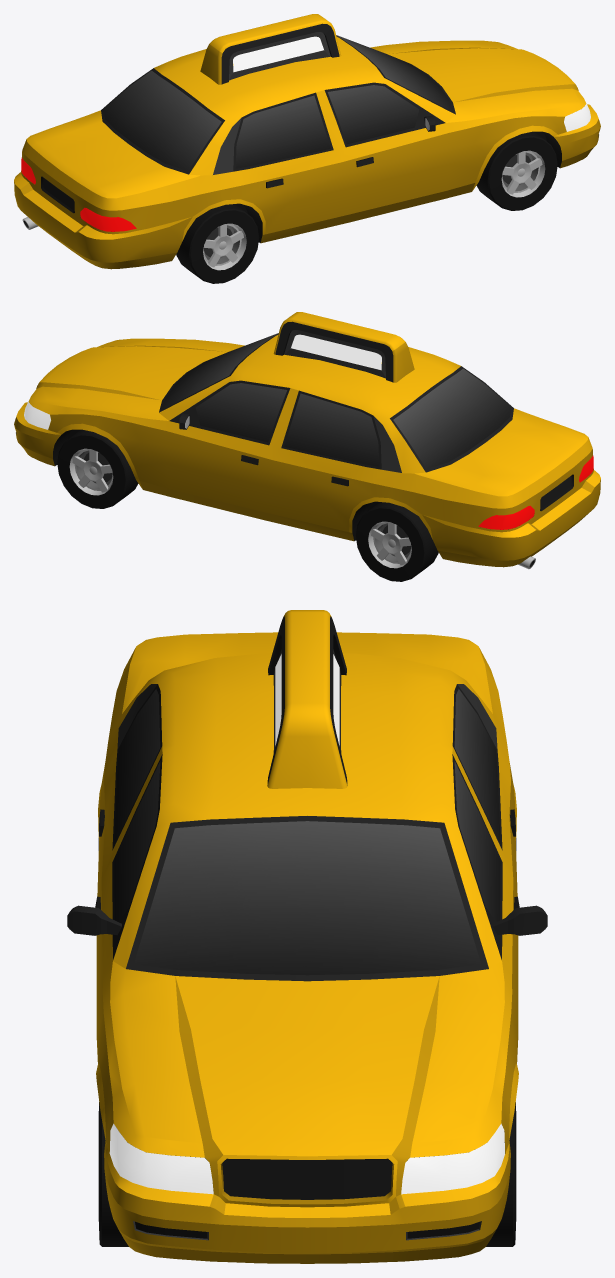
Rendered from Car_041.glb.
The picture shows the model from 3 angles, top to bottom: view 1: azimuth 30°, elevation 25°; view 2: azimuth 150°, elevation 25°; view 3: azimuth 270°, elevation 25°; orthographic projection. The views are drawn at different scales.
Visible parts, largest first — view 1: Car_041, wheel_3_Car_041_Wheel_2R, wheel_1_Car_041_Wheel_1R; view 2: Car_041, wheel_2_Car_041_Wheel_2L, wheel_0_Car_041_Wheel_1L; view 3: Car_041, wheel_0_Car_041_Wheel_1L, wheel_1_Car_041_Wheel_1R.
Part boxes in pixels (left/top/right/bottom): Car_041: left=14, top=14, right=600, bottom=269; wheel_3_Car_041_Wheel_2R: left=176, top=204, right=259, bottom=283; wheel_1_Car_041_Wheel_1R: left=476, top=131, right=557, bottom=210; Car_041: left=14, top=312, right=600, bottom=569; wheel_2_Car_041_Wheel_2L: left=355, top=502, right=438, bottom=581; wheel_0_Car_041_Wheel_1L: left=57, top=429, right=138, bottom=508; Car_041: left=67, top=610, right=547, bottom=1263; wheel_0_Car_041_Wheel_1L: left=486, top=1102, right=516, bottom=1246; wheel_1_Car_041_Wheel_1R: left=98, top=1102, right=128, bottom=1246.
Bounding box in the file's own units: 4.96 × 1.75 × 1.98.
Materials: 2 (2 with a texture image).
